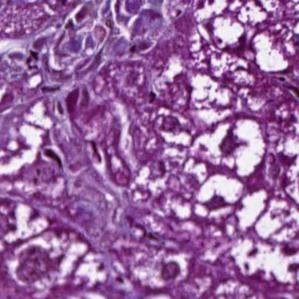inflammation: (190, 115, 269, 175), (191, 174, 244, 223)
